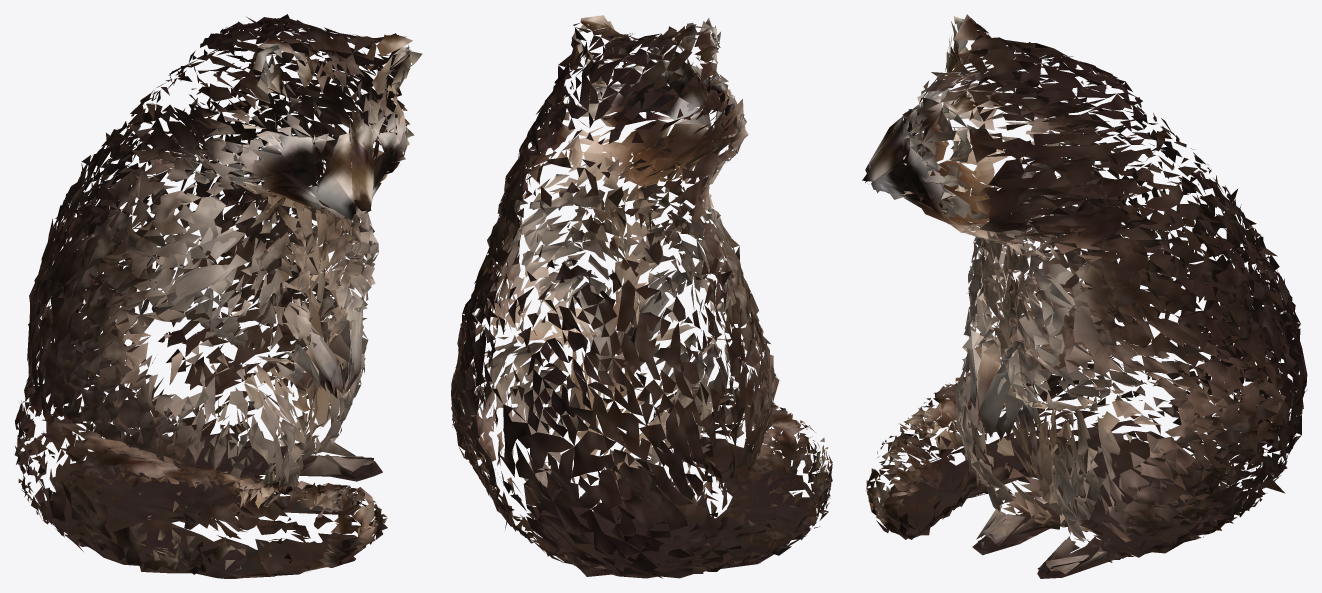
File: raccoon_forest.glb
The picture shows the model from 3 angles, left to right: view 1: azimuth 30°, elevation 25°; view 2: azimuth 150°, elevation 25°; view 3: azimuth 270°, elevation 25°; orthographic projection. The views are drawn at different scales.
Visible parts, largest first — view 1: Raccoon_Forest; view 2: Raccoon_Forest; view 3: Raccoon_Forest.
Boxes of the visible parts, left/top/right/bottom form: Raccoon_Forest: left=14, top=14, right=422, bottom=578; Raccoon_Forest: left=451, top=15, right=832, bottom=578; Raccoon_Forest: left=862, top=14, right=1307, bottom=578.
Bounding box in the file's own units: 0.2992 × 0.4202 × 0.3382.
1 material, 1 textured.
